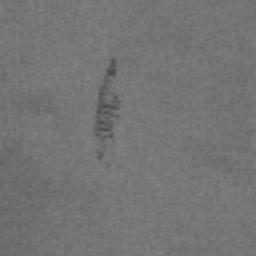Secondary rust skin: (95, 59, 118, 162)
